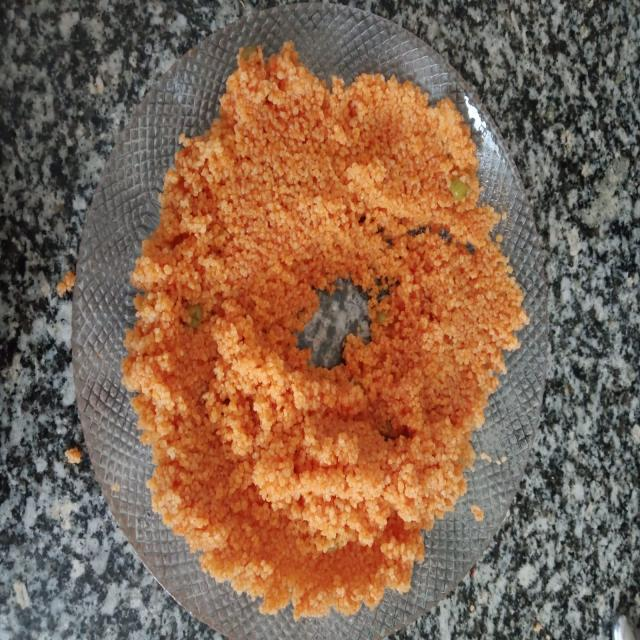Couscous: (61, 36, 576, 616)
